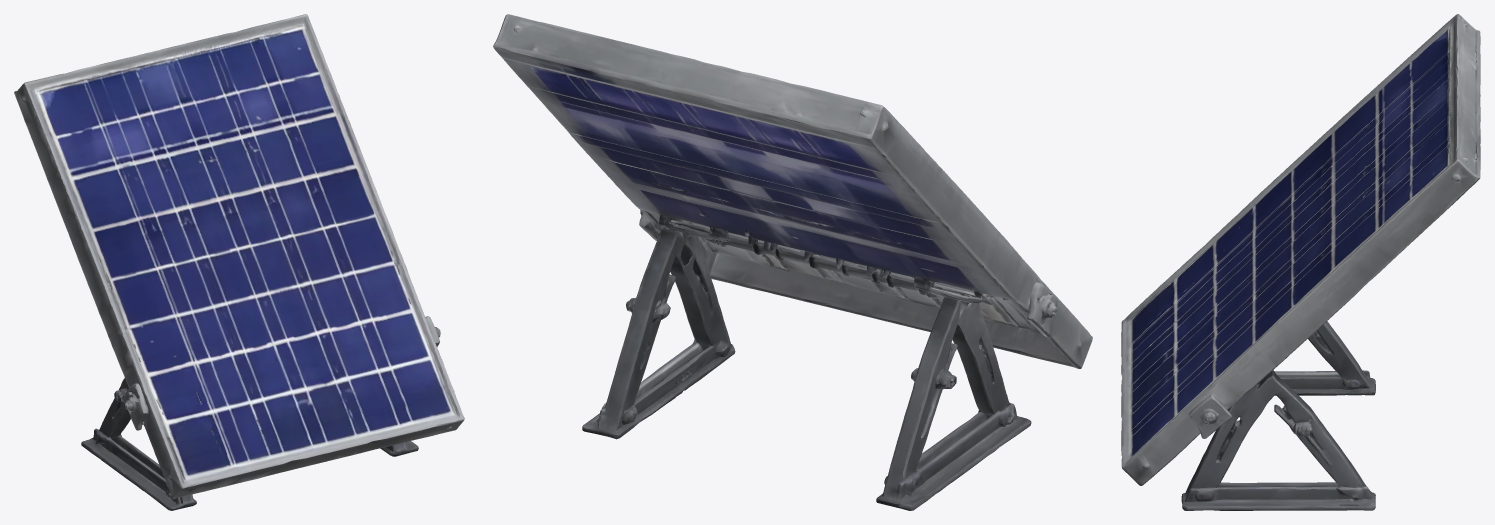
The picture shows the model from 3 angles, left to right: view 1: azimuth 30°, elevation 25°; view 2: azimuth 150°, elevation 25°; view 3: azimuth 270°, elevation 25°; orthographic projection. The views are drawn at different scales.
Parts seen in each view (by area): view 1: geometry_0; view 2: geometry_0; view 3: geometry_0.
Boxes of the visible parts, left/top/right/bottom form: geometry_0: left=14, top=14, right=464, bottom=510; geometry_0: left=493, top=14, right=1092, bottom=510; geometry_0: left=1121, top=14, right=1480, bottom=510.
Size of the model in its own units: 1 by 1.03 by 0.9353.
Materials: 1 (1 with a texture image).
